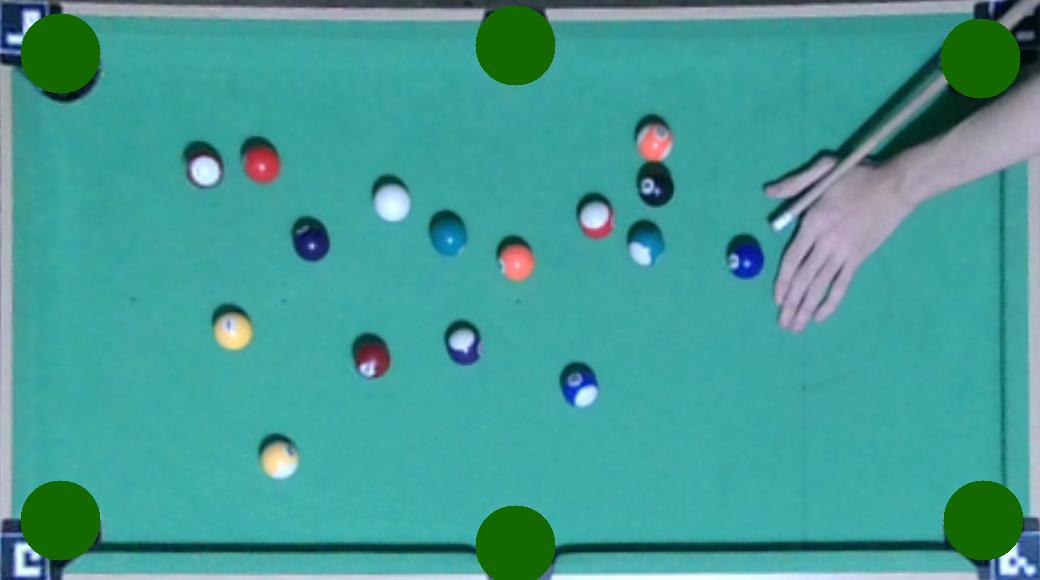Ball: (625, 223, 666, 268), (560, 364, 601, 409), (184, 147, 226, 189), (372, 182, 413, 224), (576, 198, 617, 240), (241, 143, 283, 184), (634, 121, 675, 162), (291, 220, 331, 261), (429, 216, 469, 256), (213, 311, 254, 350), (636, 164, 674, 206), (261, 442, 301, 481), (352, 338, 391, 378), (496, 243, 537, 281), (726, 239, 765, 278), (445, 325, 483, 364)
